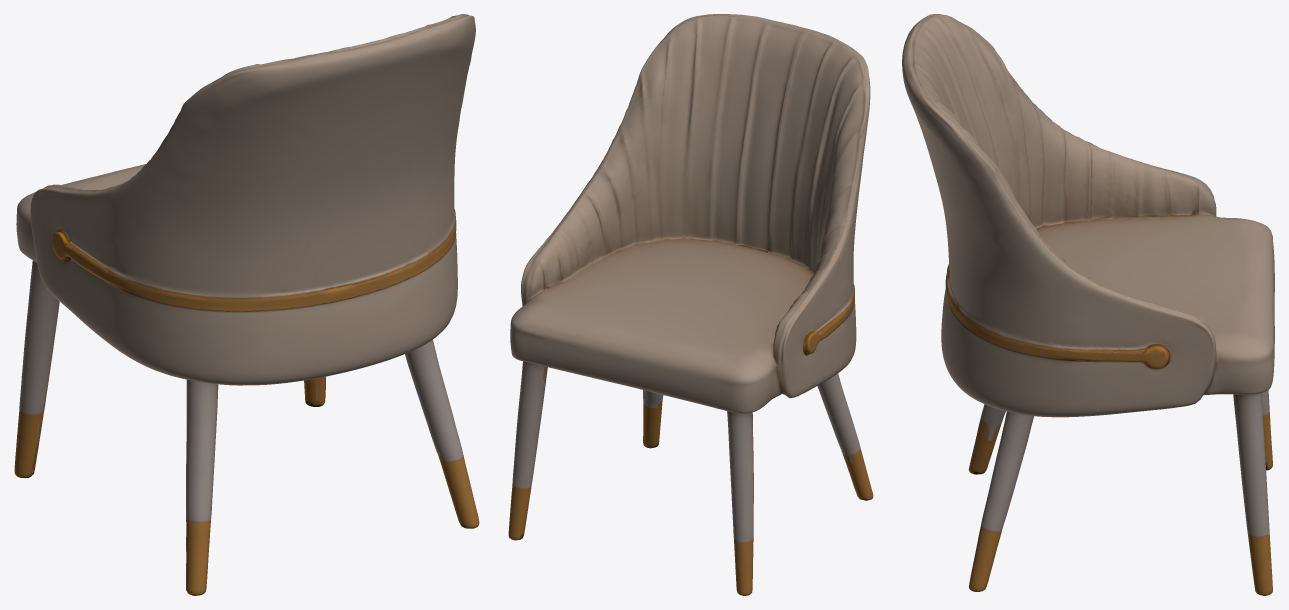
Rendered from chair_v3.glb.
3 renders of one model, left to right at view 1: azimuth 30°, elevation 25°; view 2: azimuth 150°, elevation 25°; view 3: azimuth 270°, elevation 25°, orthographic. The views are drawn at different scales.
Visible parts, largest first — view 1: tripo_node_42c2b710; view 2: tripo_node_42c2b710; view 3: tripo_node_42c2b710.
Boxes of the visible parts, box(x1,y1,x2,y2) form: tripo_node_42c2b710: box(14, 14, 479, 595); tripo_node_42c2b710: box(508, 14, 873, 595); tripo_node_42c2b710: box(902, 14, 1274, 595).
Size of the model in its own units: 0.6647 by 0.9993 by 0.7069.
1 material, 1 textured.
